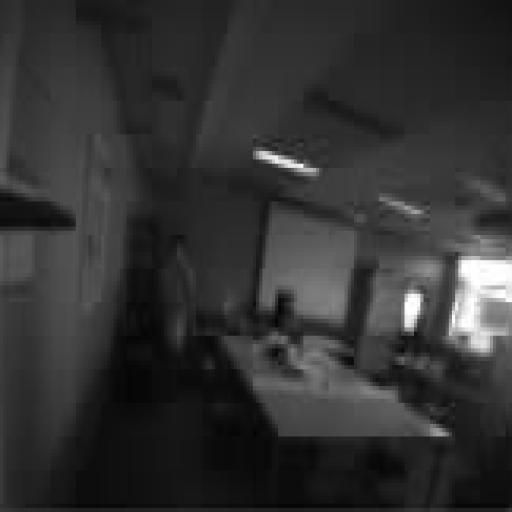human: (162, 236, 195, 356)
